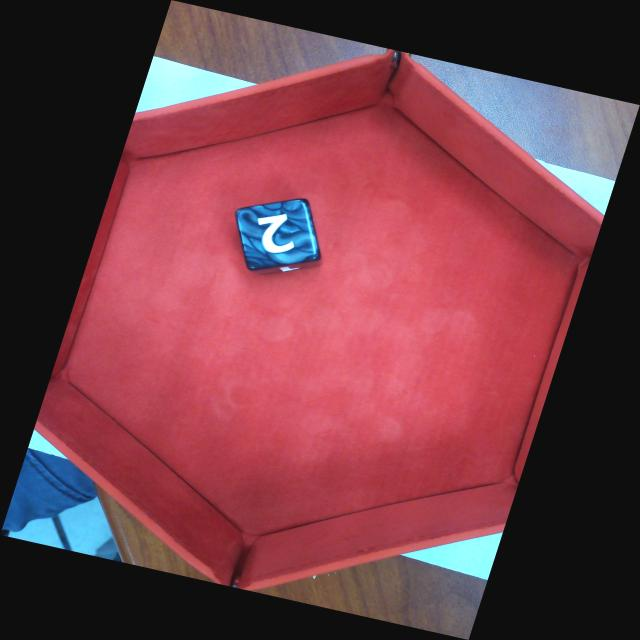dice: (238, 199, 320, 266)
